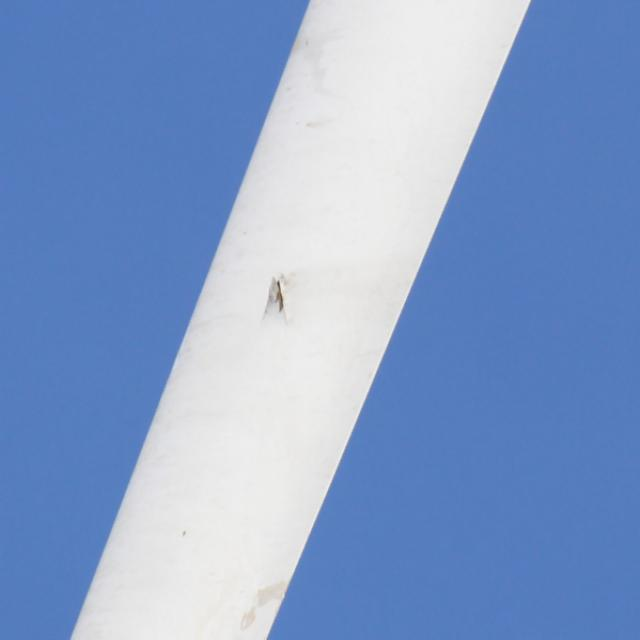Coating_defects: (263, 273, 290, 320)
